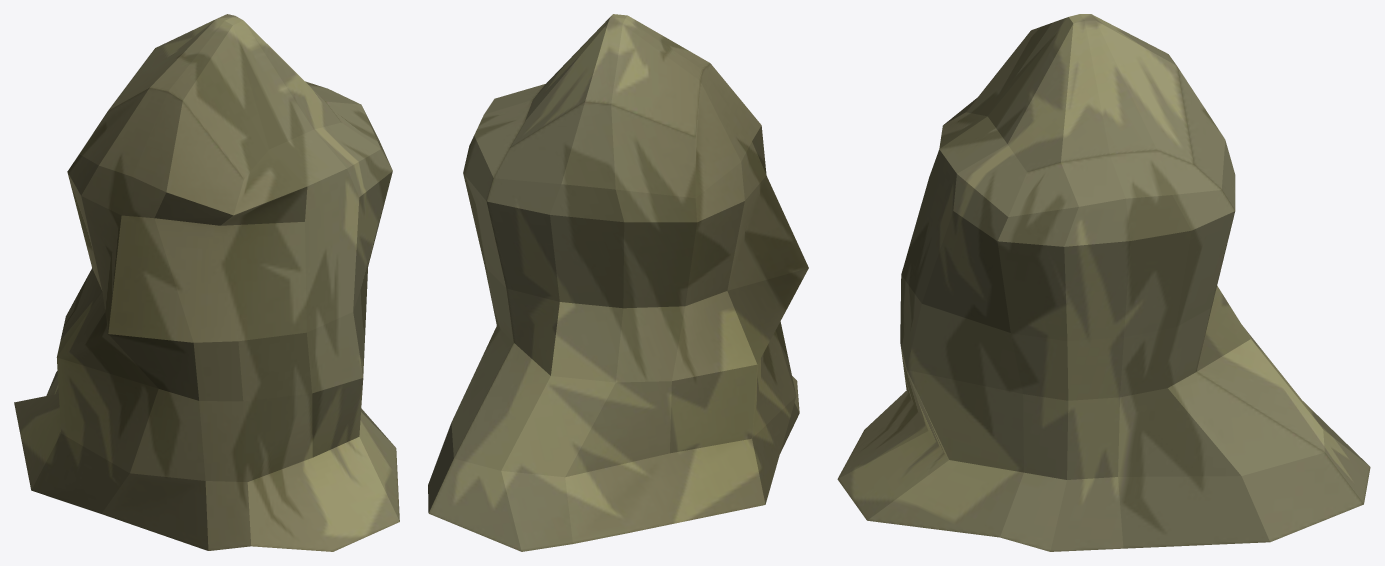
The model's file is stone.FBX.
3 renders of one model, left to right at view 1: azimuth 30°, elevation 25°; view 2: azimuth 150°, elevation 25°; view 3: azimuth 270°, elevation 25°, orthographic. The views are drawn at different scales.
Parts seen in each view (by area): view 1: stone; view 2: stone; view 3: stone.
Part boxes in pixels (<box>): stone: <box>14,14,399,551</box>; stone: <box>428,14,808,551</box>; stone: <box>837,14,1370,551</box>.
Bounding box in the file's own units: 5.05 × 6.87 × 7.
